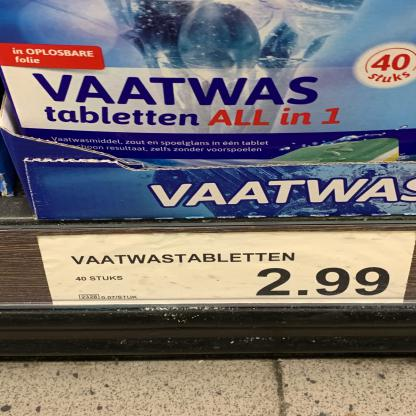prtg: (38, 231, 416, 307)
